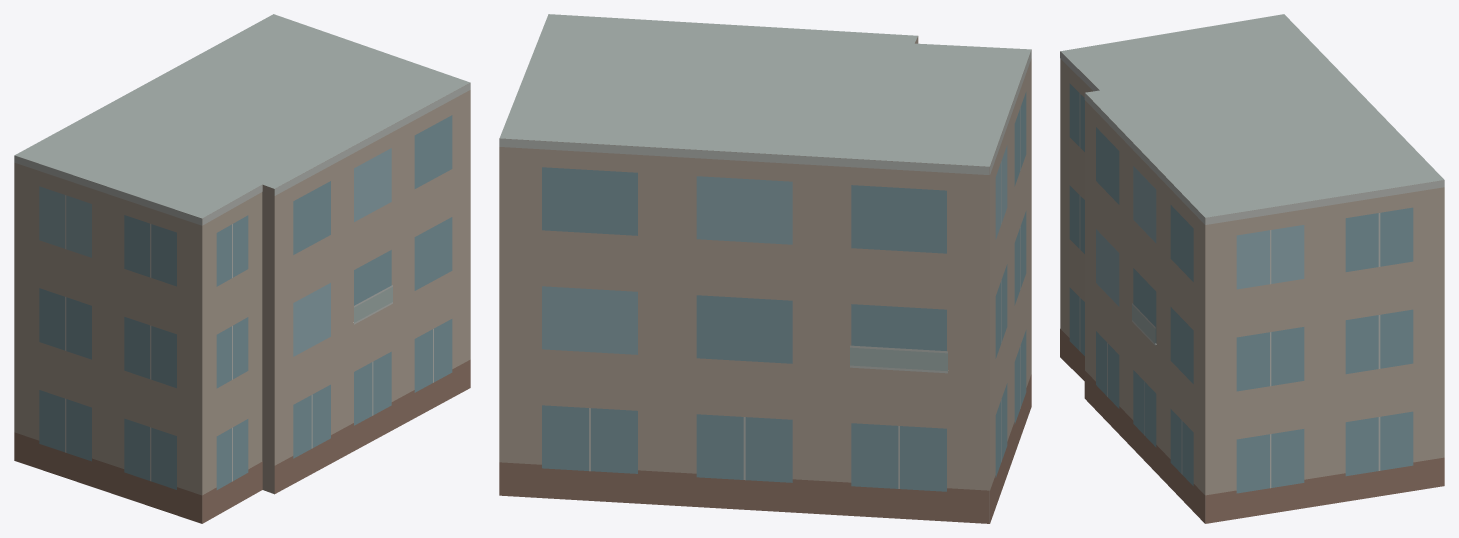
File: survey-upis-32631810.glb
3 renders of one model, left to right at view 1: azimuth 30°, elevation 25°; view 2: azimuth 150°, elevation 25°; view 3: azimuth 270°, elevation 25°, orthographic. The views are drawn at different scales.
Parts seen in each view (by area): view 1: survey-upis-32631810.tmp; view 2: survey-upis-32631810.tmp; view 3: survey-upis-32631810.tmp.
Boxes of the visible parts, x1=… form: survey-upis-32631810.tmp: x1=14, y1=14, x2=470, y2=523; survey-upis-32631810.tmp: x1=499, y1=14, x2=1031, y2=523; survey-upis-32631810.tmp: x1=1060, y1=14, x2=1444, y2=523.
Bounding box in the file's own units: 14.72 × 10.3 × 11.73.
